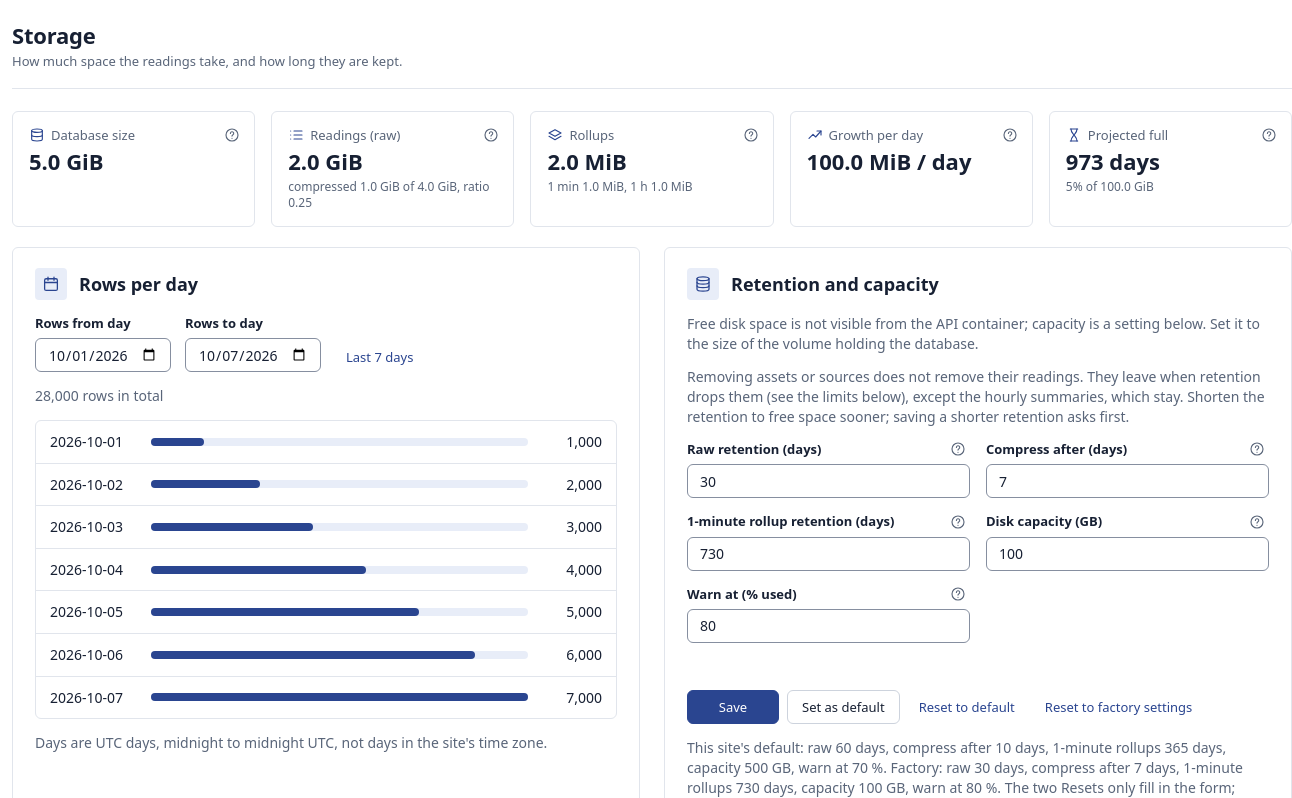
it: StoragePage defaults, resets and the confirmation › Reset to default fills the form with the site default when one is set
This screenshot has width=1292, height=798.
Click the button "Reset to default": {"x": 967, "y": 707} top-left (908, 692), bottom-right (1026, 722)
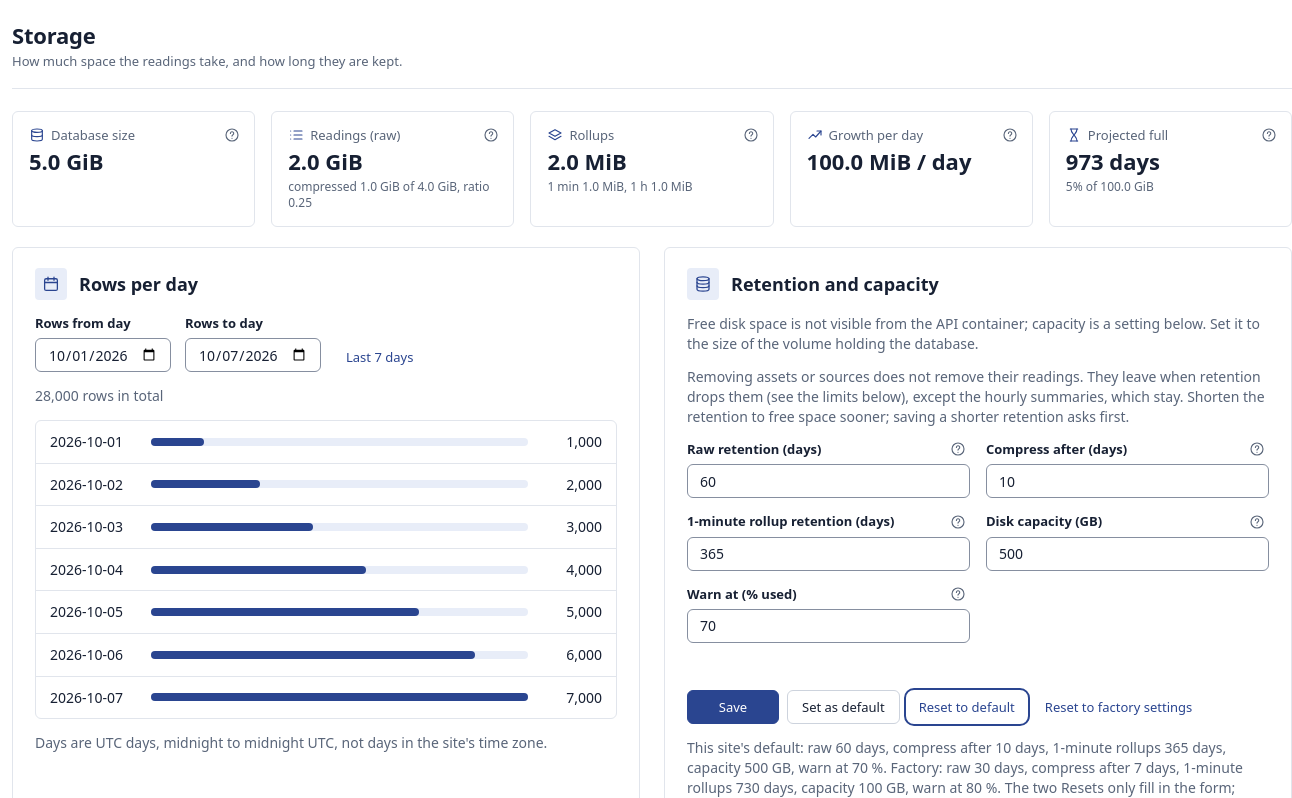
Now the number field labelled "Raw retention (days)" holds "60", box top-left (687, 464), bottom-right (970, 498)
Now the number field labelled "Disk capacity (GB)" holds "500", box top-left (986, 537), bottom-right (1269, 571)
